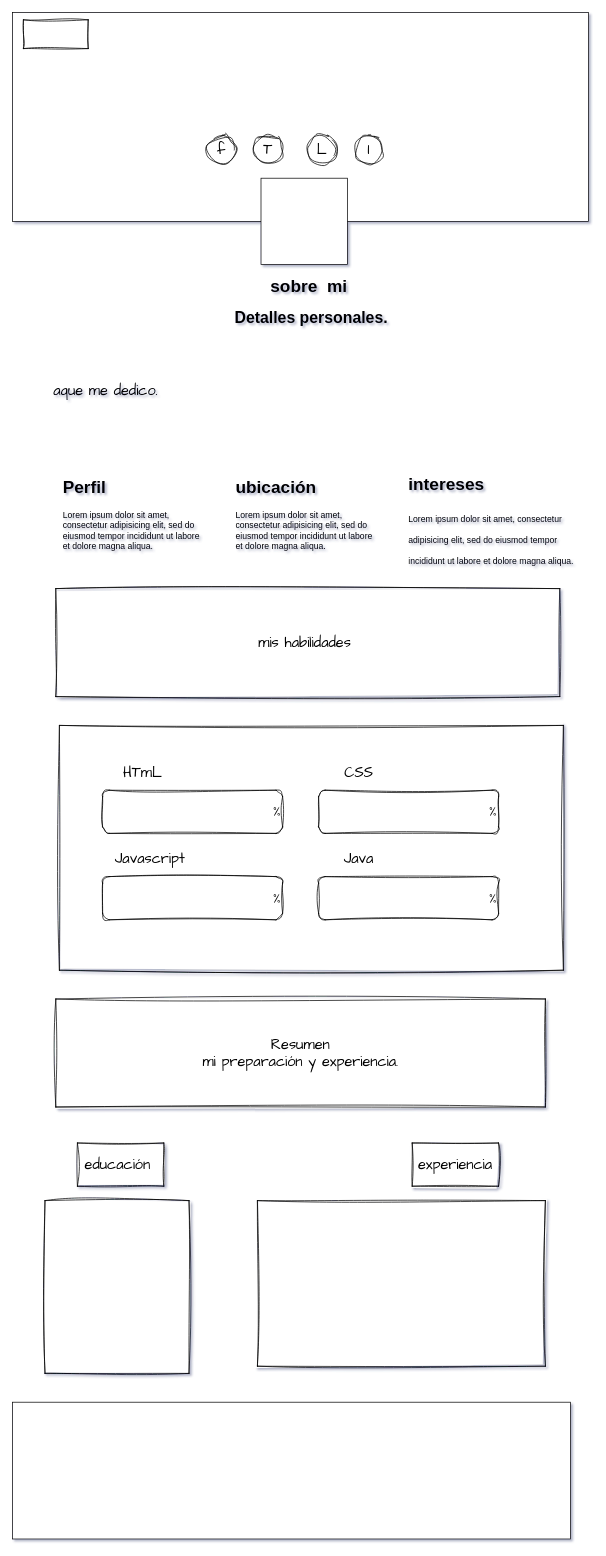
The diagram is 606 pixels wide and 1556 high, and some of its shapes have lost their labels. Each missing label, with the centre of its shape:
contacto Teléfono correo pagina web: point 291,1470
foto: point 303,221
menu: point 55,34
